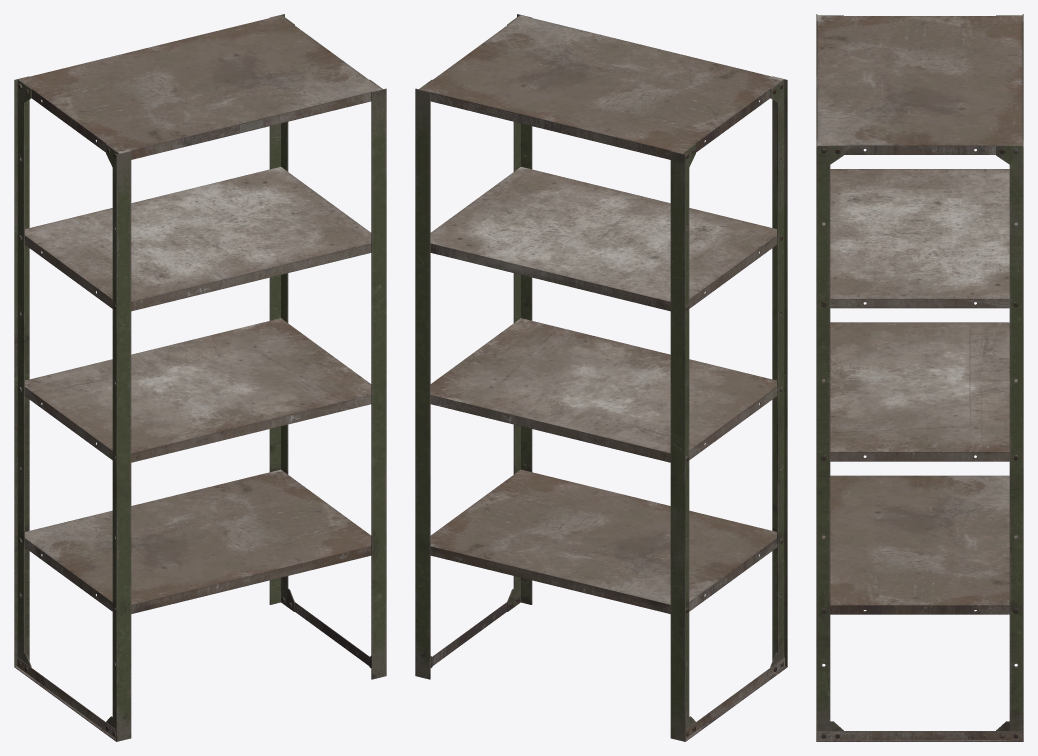
File: prop-rack-metal-worn.glb
3 renders of one model, left to right at view 1: azimuth 30°, elevation 25°; view 2: azimuth 150°, elevation 25°; view 3: azimuth 270°, elevation 25°, orthographic.
Visible parts, largest first — view 1: worn_metal_rack; view 2: worn_metal_rack; view 3: worn_metal_rack.
Part boxes in pixels (box(x1,y1,x2,y2)): worn_metal_rack: box(14, 14, 386, 741); worn_metal_rack: box(415, 14, 787, 741); worn_metal_rack: box(816, 14, 1023, 741).
Bounding box in the file's own units: 0.9153 × 1.9 × 0.6001.
1 material, 1 textured.
